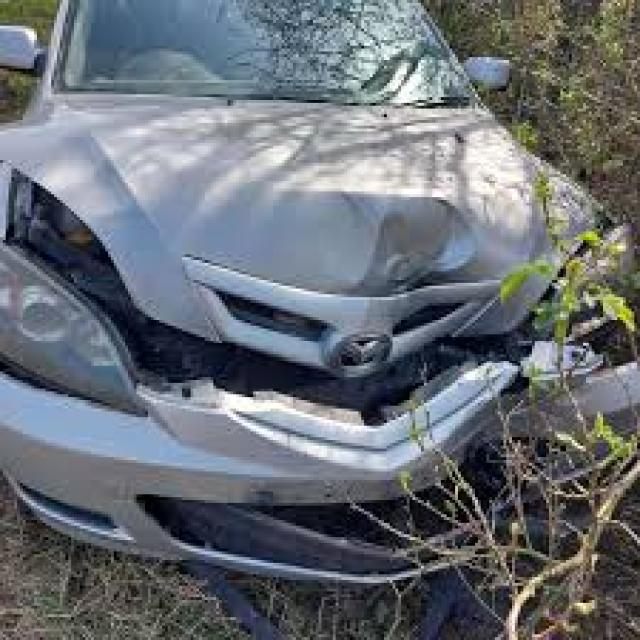Severe Damage: (4, 161, 632, 577)
